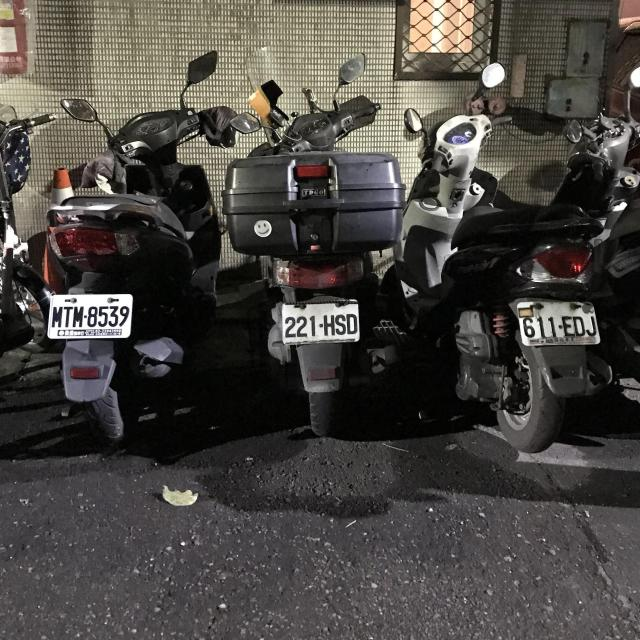W: (512, 292, 604, 350), (46, 290, 135, 340), (280, 297, 362, 347)
